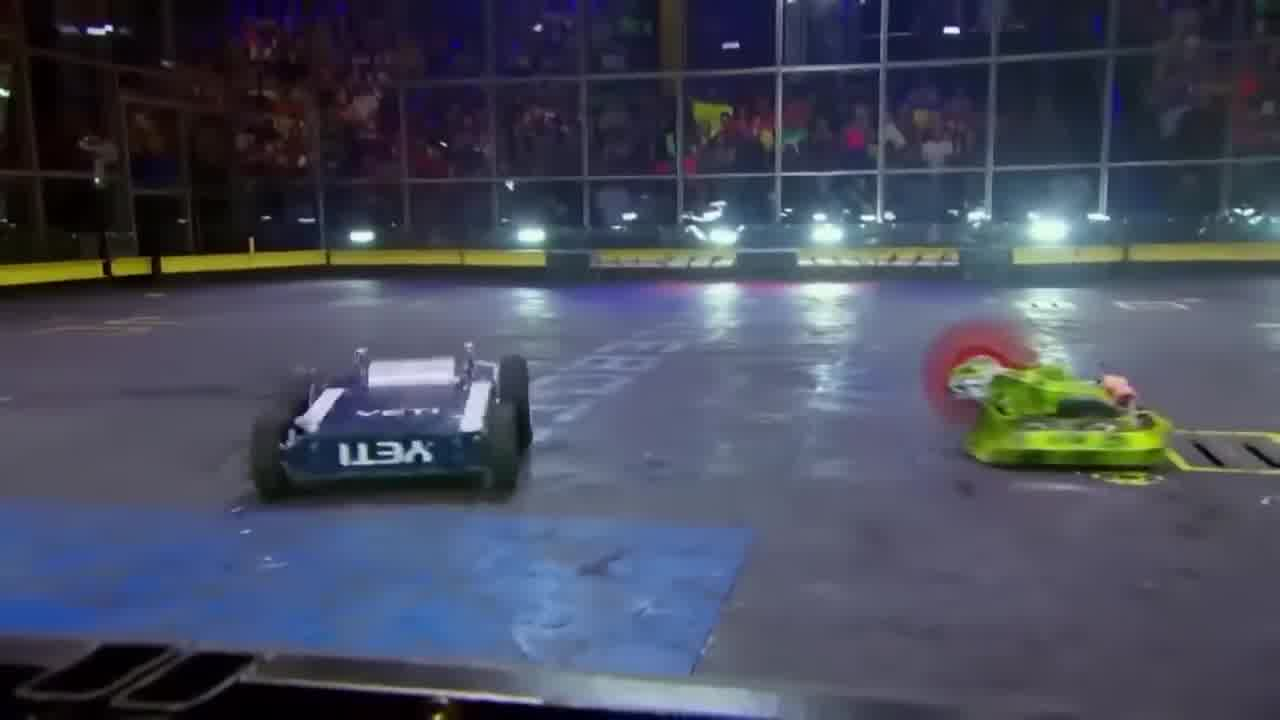combatbot: (240, 341, 530, 504), (950, 355, 1173, 478)
